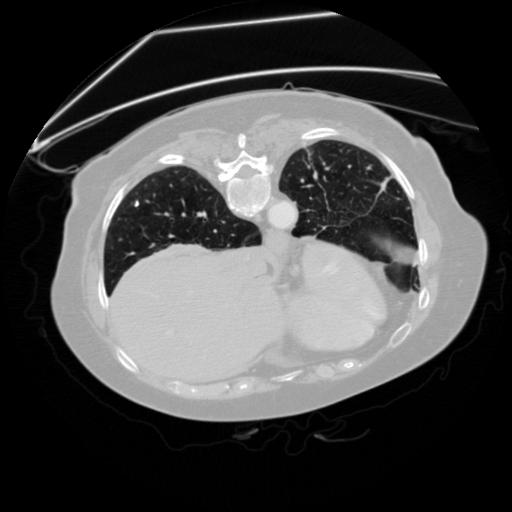nodule: (130, 200, 141, 211)
